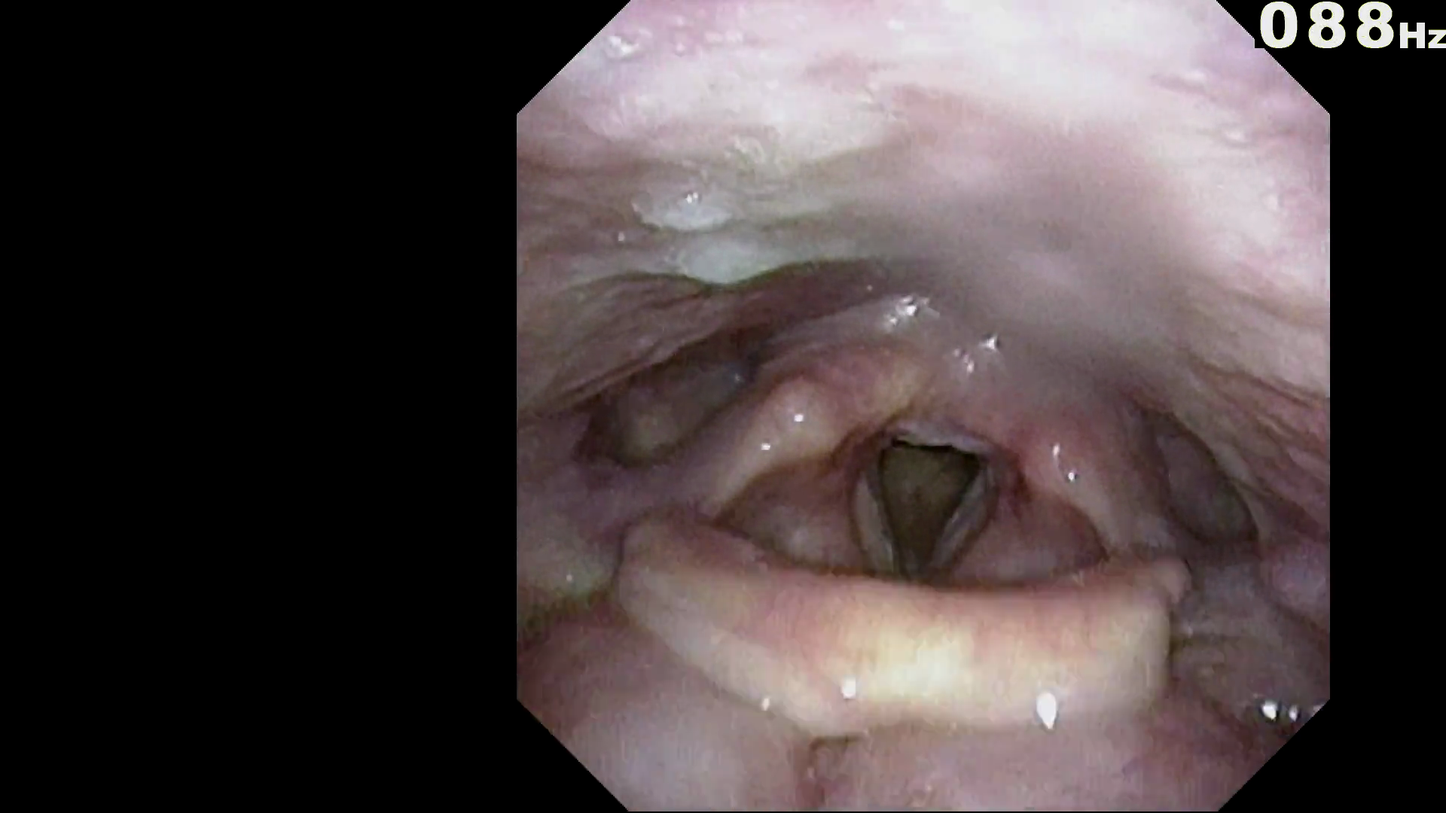epiglottis: (622, 545, 1181, 738)
trachea: (867, 427, 989, 589)
